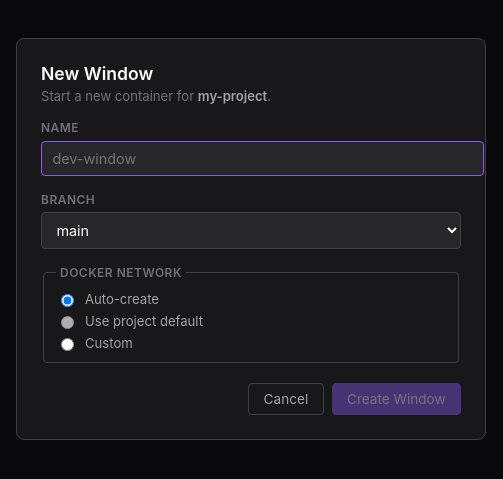
Scenario: network mode radio group › Custom option reveals a network name text input
What coordinates should you click on to do the following:
click the radio button labelled "Custom"
I would click on:
 (68, 345)
Its box is [61,338,74,351].
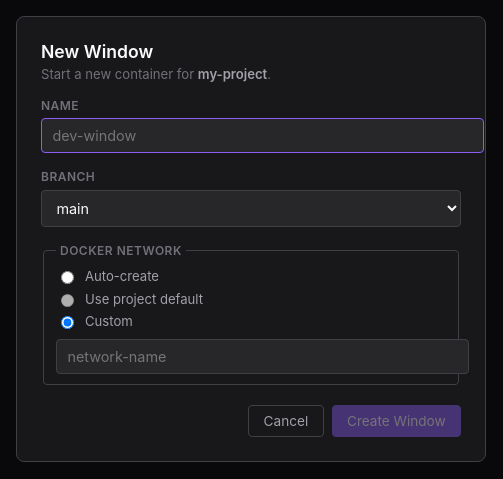
Check: the field with placeholder "network-name" is shown, box [56,339,469,374]
